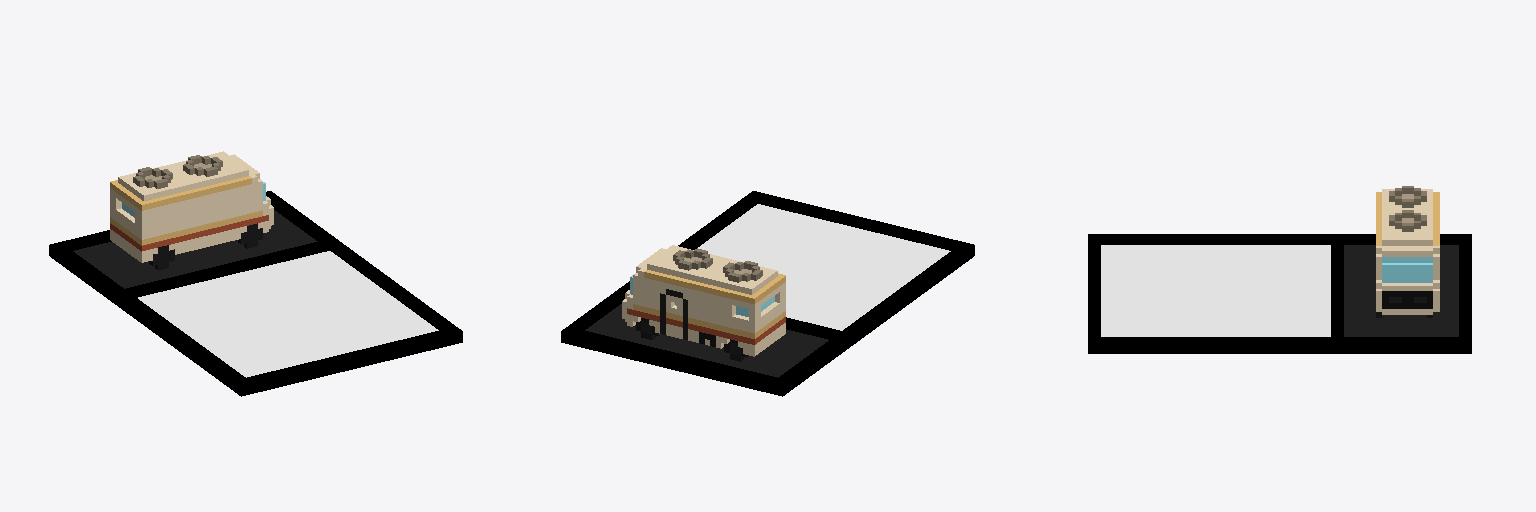
The picture shows the model from 3 angles: view 1: azimuth 30°, elevation 25°; view 2: azimuth 150°, elevation 25°; view 3: azimuth 270°, elevation 25°; orthographic projection.
Visible parts, largest first — view 1: object 1; view 2: object 1; view 3: object 1.
Part boxes in pixels (x1,y1,x2,y2): object 1: (49,151,462,396); object 1: (561,191,974,396); object 1: (1088,186,1471,353).
Bounding box in the file's own units: 4 × 1.5 × 6.
1 materials, 1 textured.